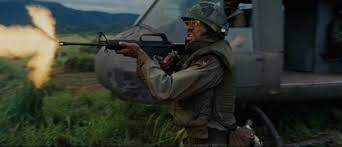rifle: (58, 30, 188, 66)
